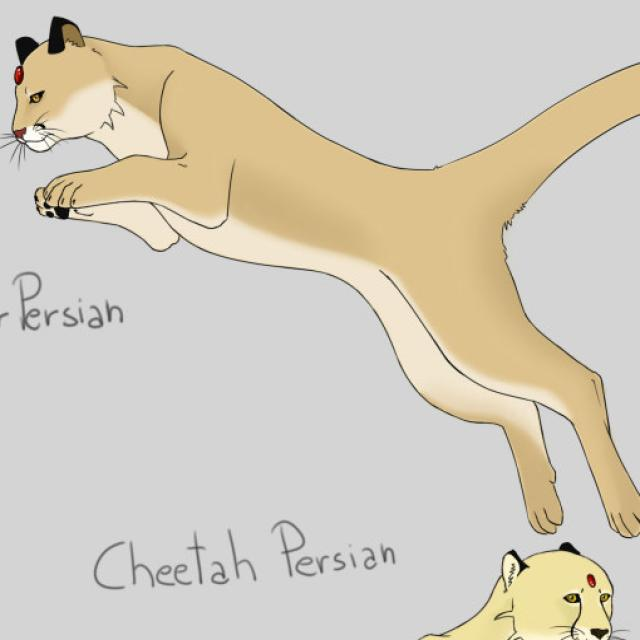Persian: (6, 19, 506, 261)
